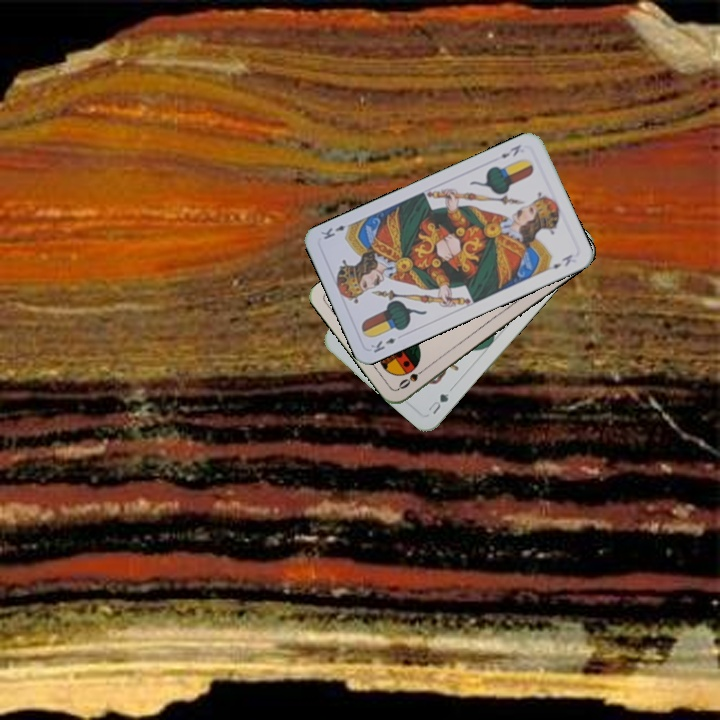EK: (366, 334, 398, 355), (497, 140, 524, 161)
GU: (424, 388, 452, 417)
SO: (394, 363, 430, 392)
